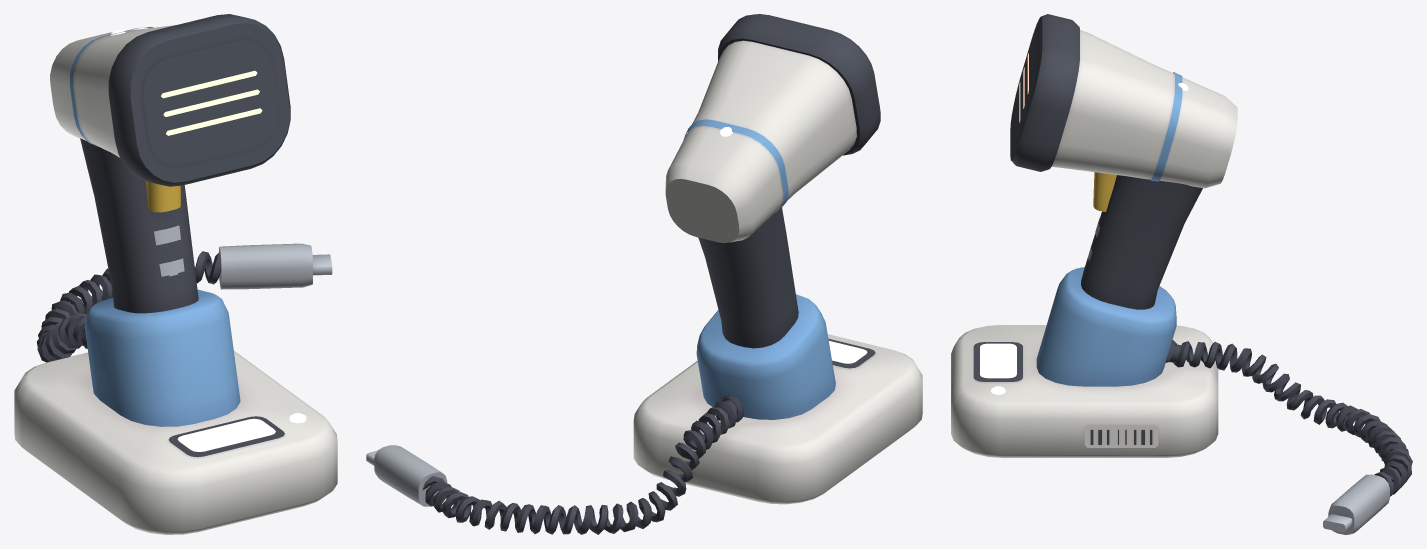
File: barcode-scanner.fbx
3 renders of one model, left to right at view 1: azimuth 30°, elevation 25°; view 2: azimuth 150°, elevation 25°; view 3: azimuth 270°, elevation 25°, orthographic. The views are drawn at different scales.
Parts seen in each view (by area): view 1: barcode-scanner_body, barcode-scanner_scan_glow, barcode-scanner_dock_screen; view 2: barcode-scanner_body; view 3: barcode-scanner_body, barcode-scanner_dock_screen.
Part boxes in pixels (left/top/right/bottom): barcode-scanner_body: left=14, top=14, right=337, bottom=534; barcode-scanner_scan_glow: left=111, top=30, right=306, bottom=423; barcode-scanner_dock_screen: left=177, top=418, right=275, bottom=451; barcode-scanner_body: left=366, top=14, right=922, bottom=534; barcode-scanner_body: left=951, top=14, right=1412, bottom=534; barcode-scanner_dock_screen: left=980, top=343, right=1016, bottom=378.
Bounding box in the file's own units: 0.1968 × 0.2065 × 0.2248.
7 materials, 1 textured.
